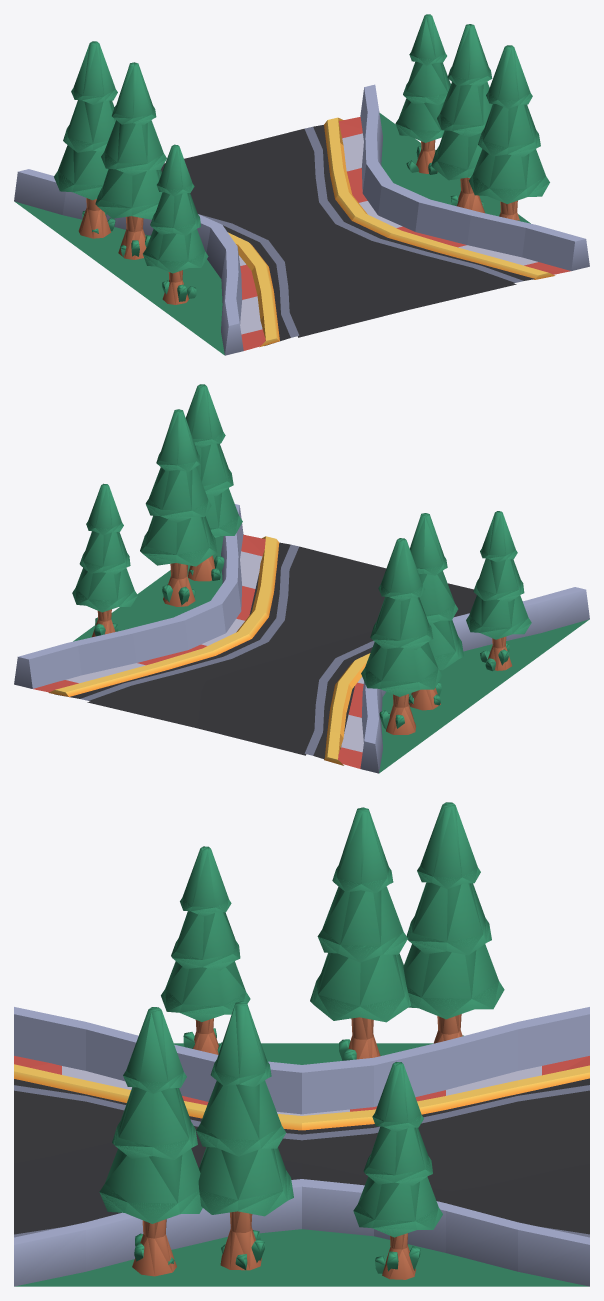
File: track-choke-both.glb
3 renders of one model, top to bottom at view 1: azimuth 30°, elevation 25°; view 2: azimuth 150°, elevation 25°; view 3: azimuth 270°, elevation 25°, orthographic. The views are drawn at different scales.
Parts seen in each view (by area): view 1: track-straight.008; view 2: track-straight.008; view 3: track-straight.008.
Part boxes in pixels (x1=…): track-straight.008: x1=14, y1=14, x2=589, y2=355; track-straight.008: x1=14, y1=384, x2=589, y2=773; track-straight.008: x1=14, y1=802, x2=589, y2=1286.
Bounding box in the file's own units: 10.33 × 4.96 × 10.
Materials: 2 (2 with a texture image).
